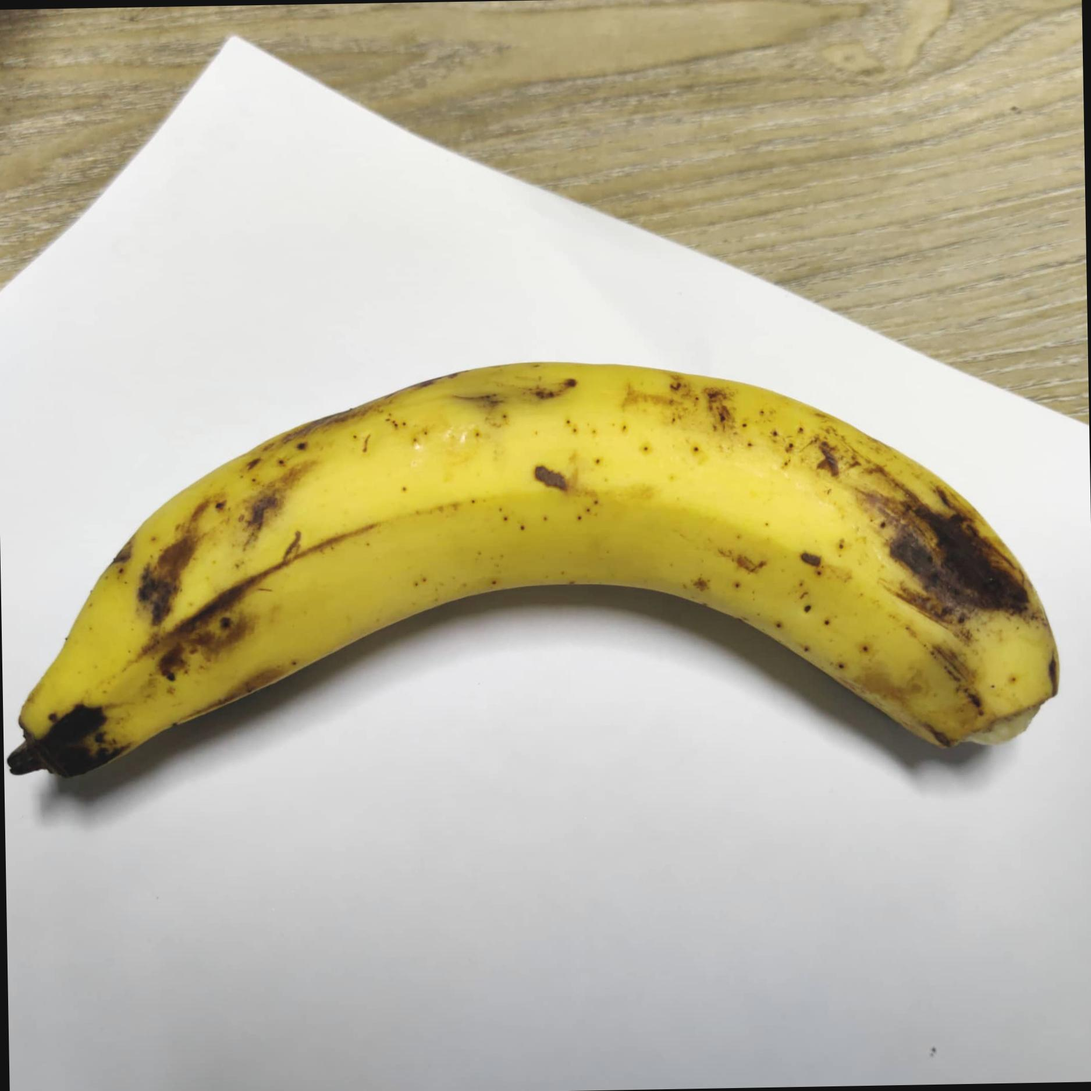Banana Ripe: (9, 337, 1076, 978)
